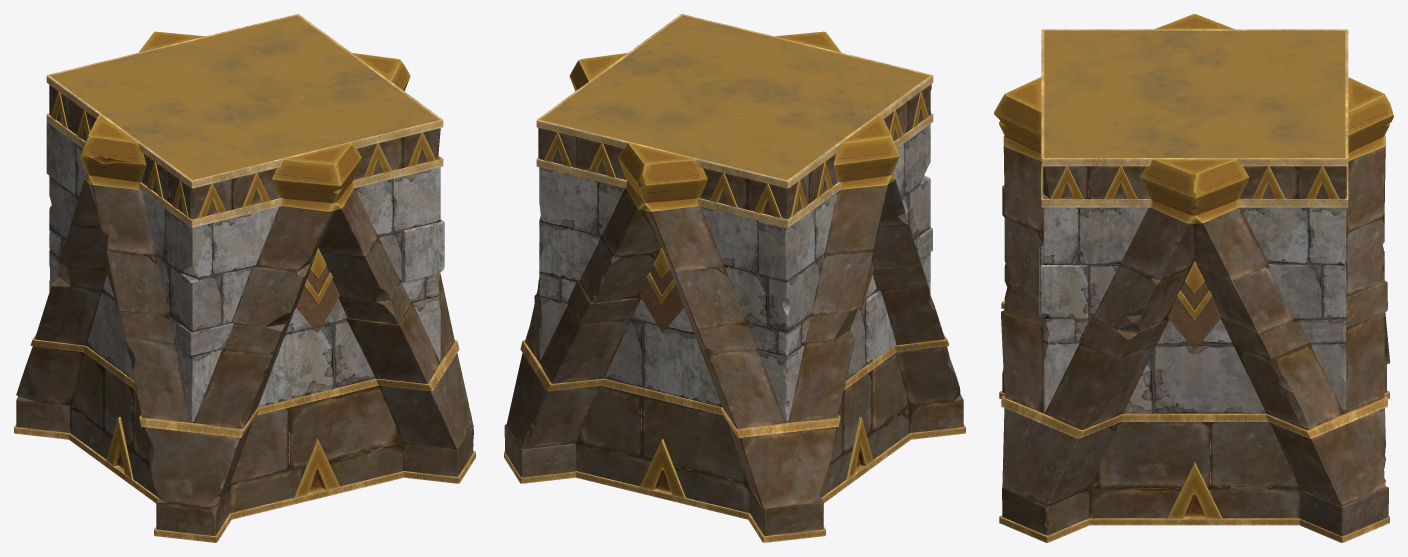
The picture shows the model from 3 angles, left to right: view 1: azimuth 30°, elevation 25°; view 2: azimuth 150°, elevation 25°; view 3: azimuth 270°, elevation 25°; orthographic projection. The views are drawn at different scales.
Visible parts, largest first — view 1: SM_DK_8m_TowerMid_02_LOD0; view 2: SM_DK_8m_TowerMid_02_LOD0; view 3: SM_DK_8m_TowerMid_02_LOD0.
Part boxes in pixels (box(x1,y1,x2,y2)): SM_DK_8m_TowerMid_02_LOD0: box(14, 14, 475, 542); SM_DK_8m_TowerMid_02_LOD0: box(504, 14, 965, 542); SM_DK_8m_TowerMid_02_LOD0: box(994, 14, 1393, 542).
Bounding box in the file's own units: 5.96 × 6 × 5.94.
5 materials, 5 textured.
